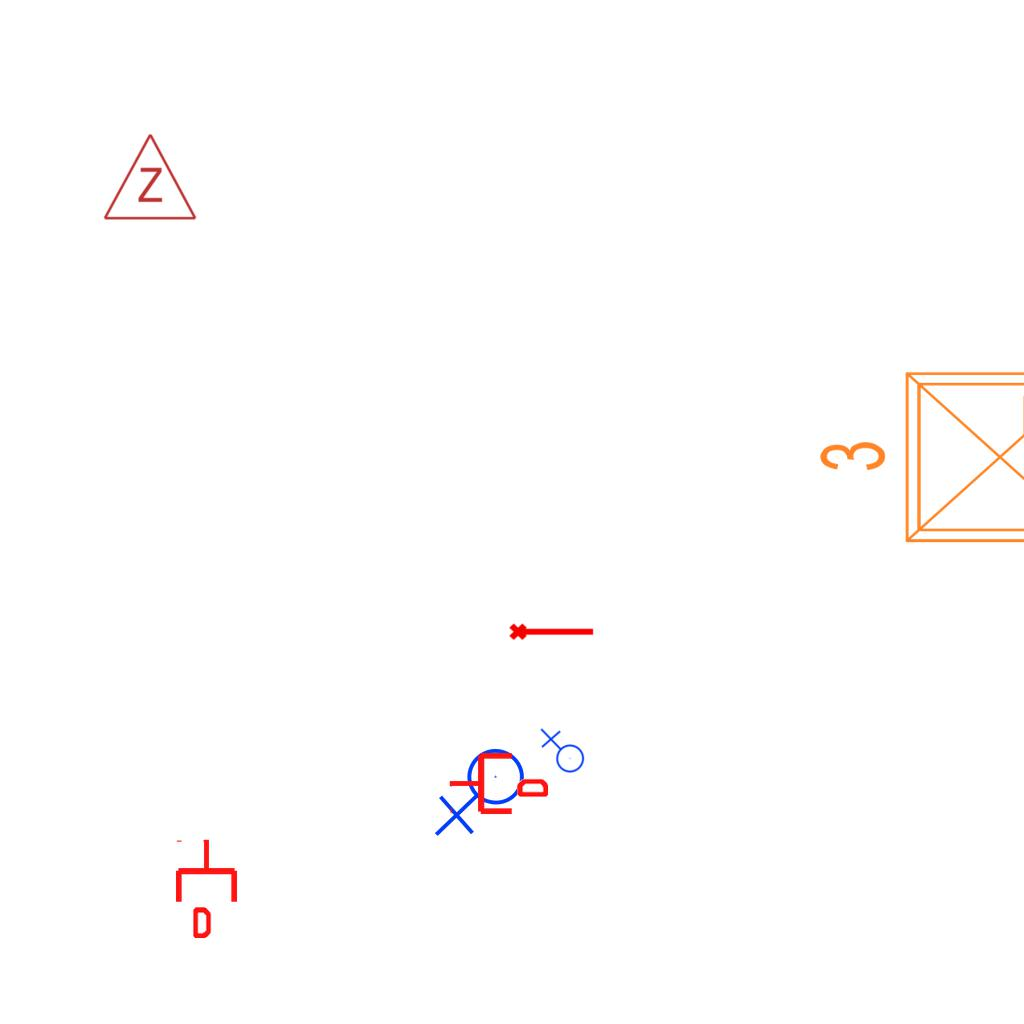ASR_Ansaugoeffnung: (508, 619, 596, 642)
Datenanschluss_einfach: (172, 838, 241, 938), (448, 749, 548, 818)
Einbaudownlights_LED_Konferenzraeume: (809, 357, 1024, 565)
Elektroanschluss_allgemein_230V_Geraeteanschlussdose_230V: (434, 747, 533, 841), (538, 728, 585, 777)
Zimmersignalleuchte: (100, 127, 198, 227)
